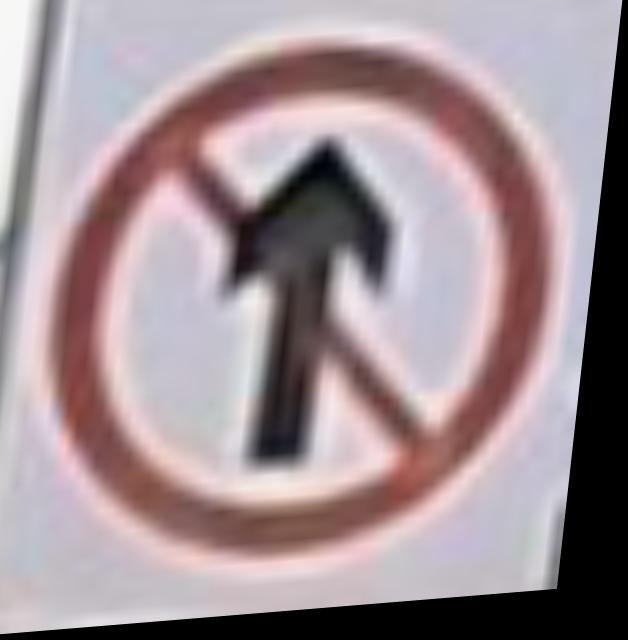not_go_straight: (19, 19, 597, 595)
